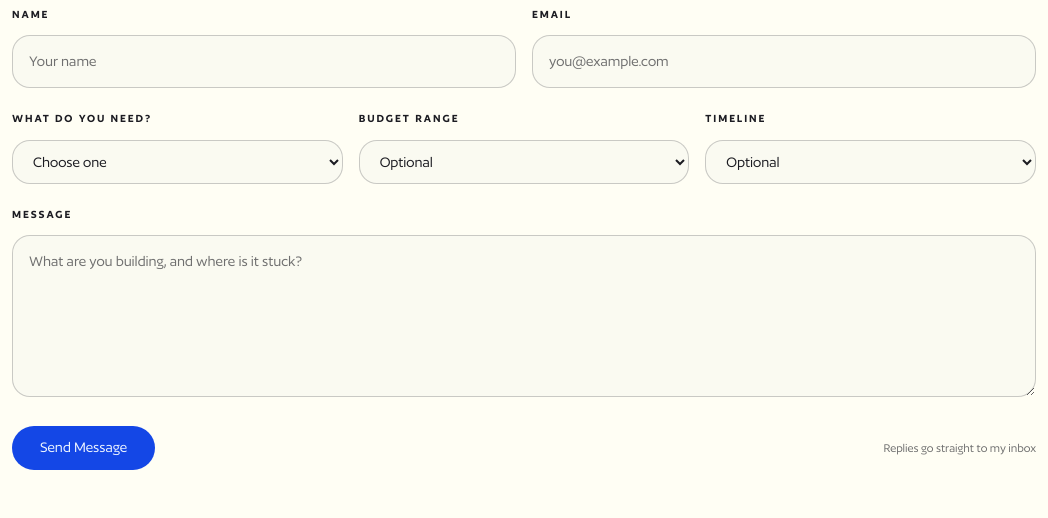
Test: ContactForm › shows an error and re-enables the button when the request fails
Type "Jane Doe" into the field labelled "NAME" at (264, 62), box [12,35,516,88]
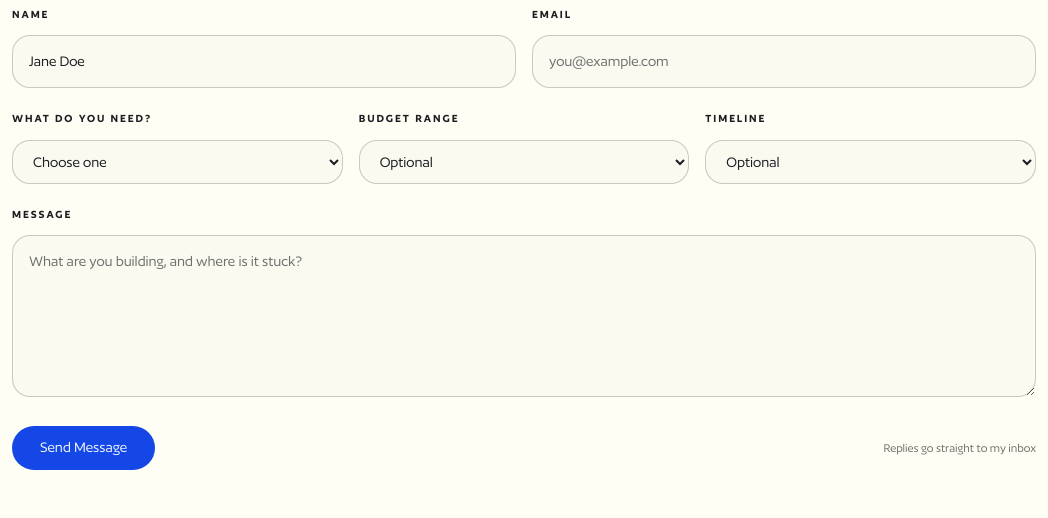
Type "jane@example.com" into the field labelled "EMAIL" at (784, 62), box [532,35,1036,88]
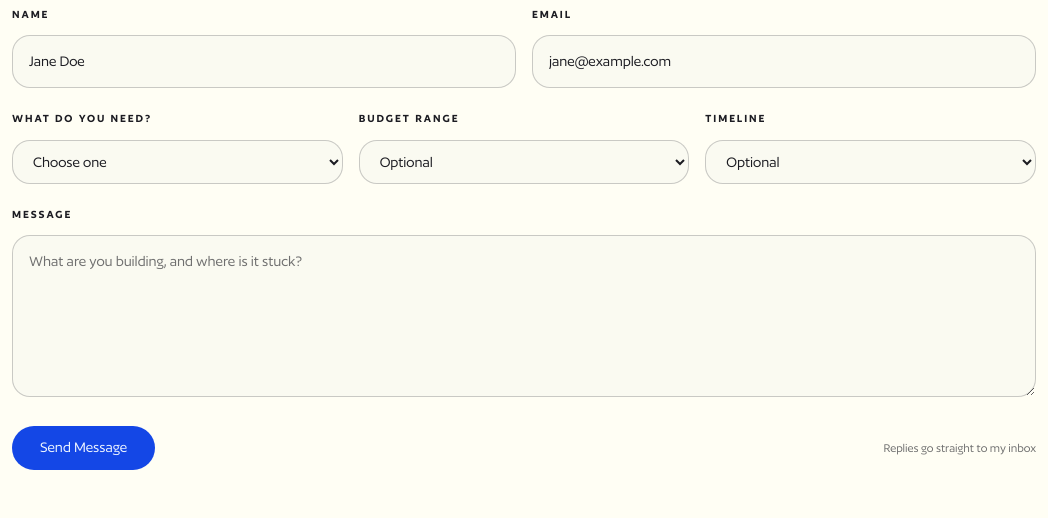
Select "New website" in the dropdown labelled "What do you need?" at (177, 162), box [12,140,343,184]
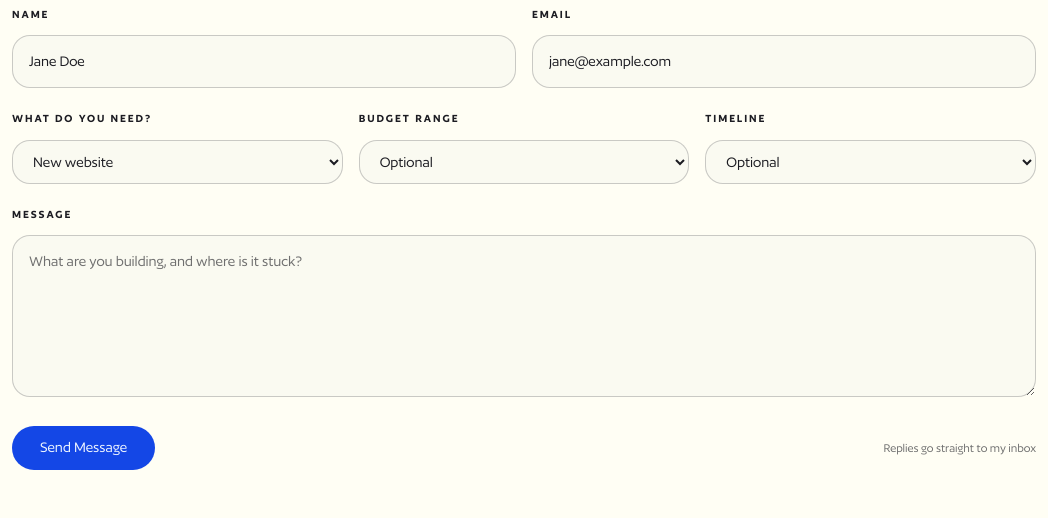
Type "Hello there!" into the text box labelled "MESSAGE" at (524, 316), box [12,235,1036,397]
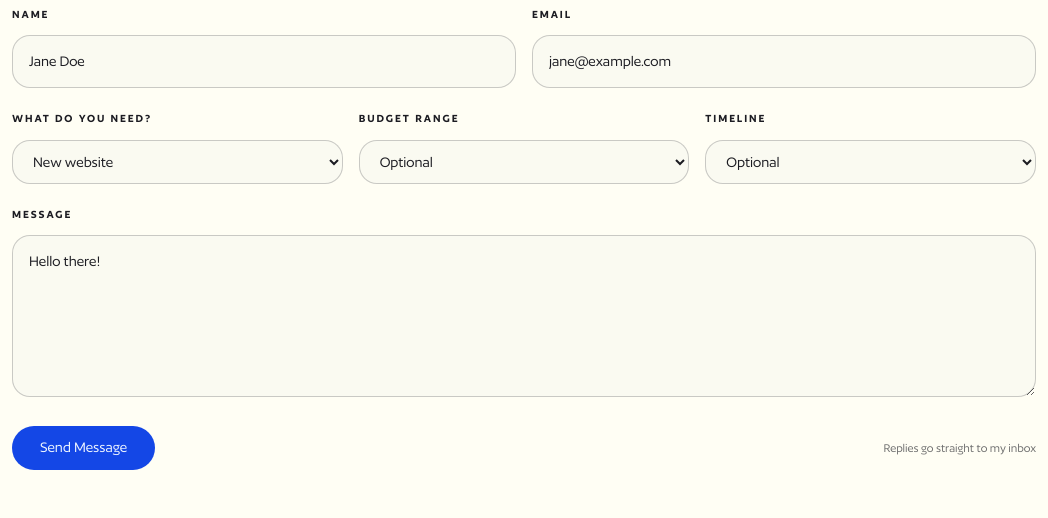
Click the button "Send Message" at (84, 448), box [12,426,155,470]
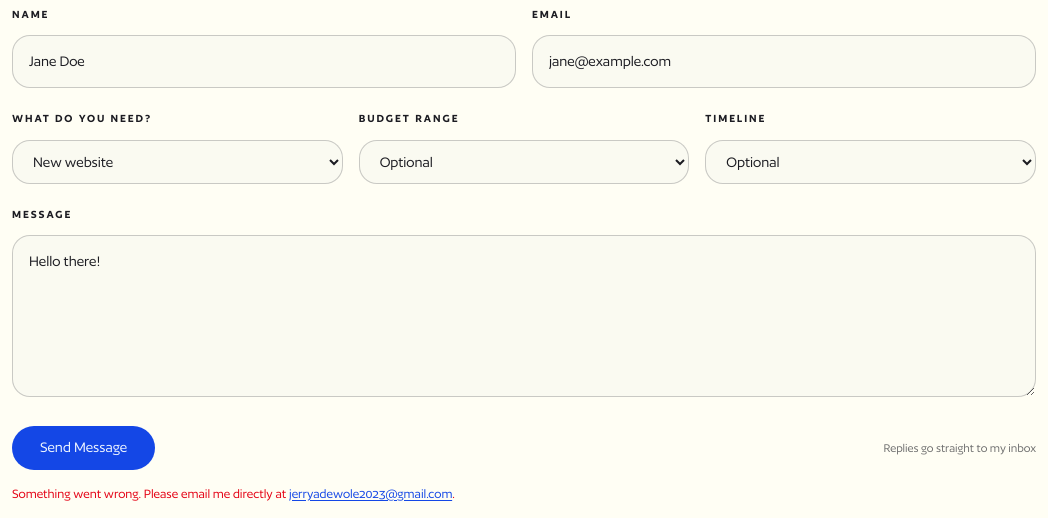
Expected: the message shows "Something went wrong", [12,486,286,501]
